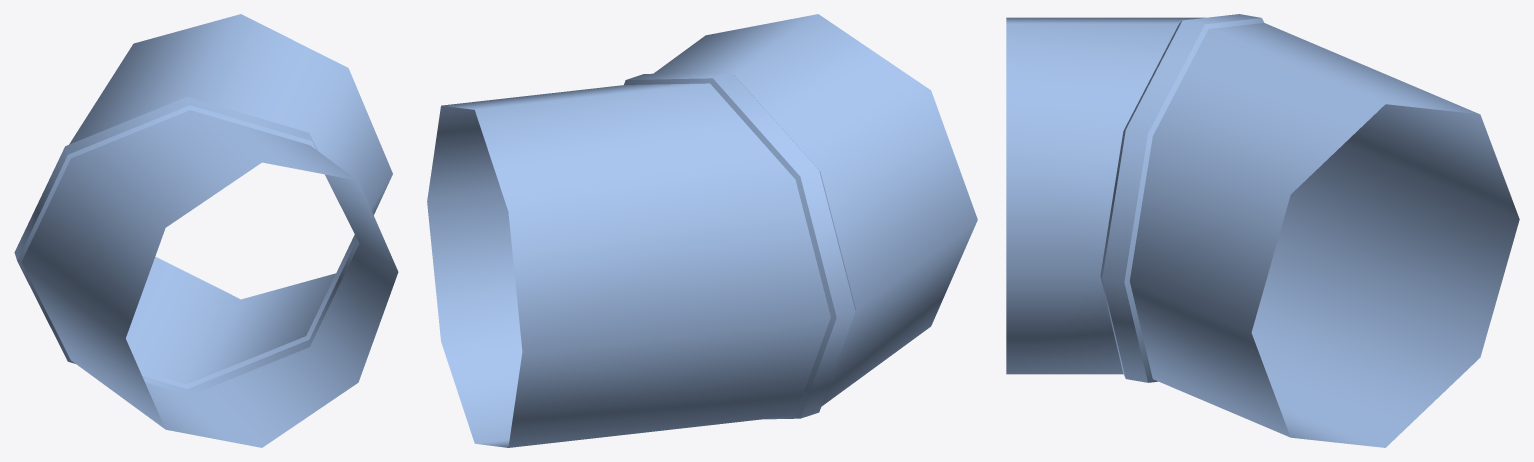
The model's file is PipeSmall_Stepped_BentDeg45_01.fbx.
3 renders of one model, left to right at view 1: azimuth 30°, elevation 25°; view 2: azimuth 150°, elevation 25°; view 3: azimuth 270°, elevation 25°, orthographic. The views are drawn at different scales.
Visible parts, largest first — view 1: PipeSmall_Stepped_BentDeg45_01.001; view 2: PipeSmall_Stepped_BentDeg45_01.001; view 3: PipeSmall_Stepped_BentDeg45_01.001.
Part boxes in pixels (x1,y1,x2,y2): PipeSmall_Stepped_BentDeg45_01.001: [14, 14, 398, 447]; PipeSmall_Stepped_BentDeg45_01.001: [427, 14, 977, 447]; PipeSmall_Stepped_BentDeg45_01.001: [1006, 14, 1519, 447].
Size of the model in its own units: 0.1361 by 0.1024 by 0.1354.
